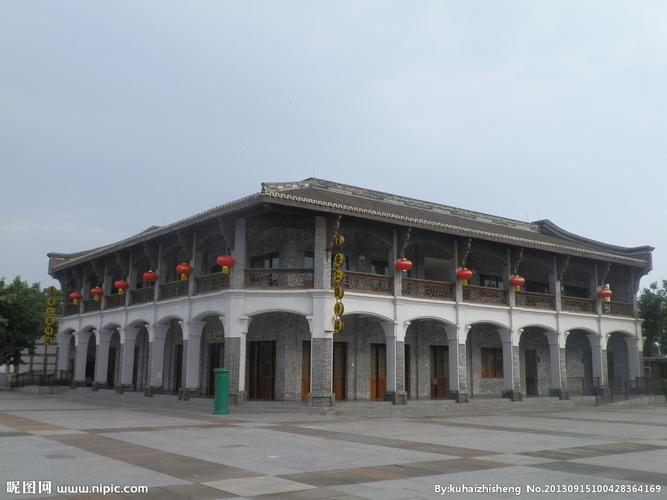buildings: (38, 179, 642, 413)
